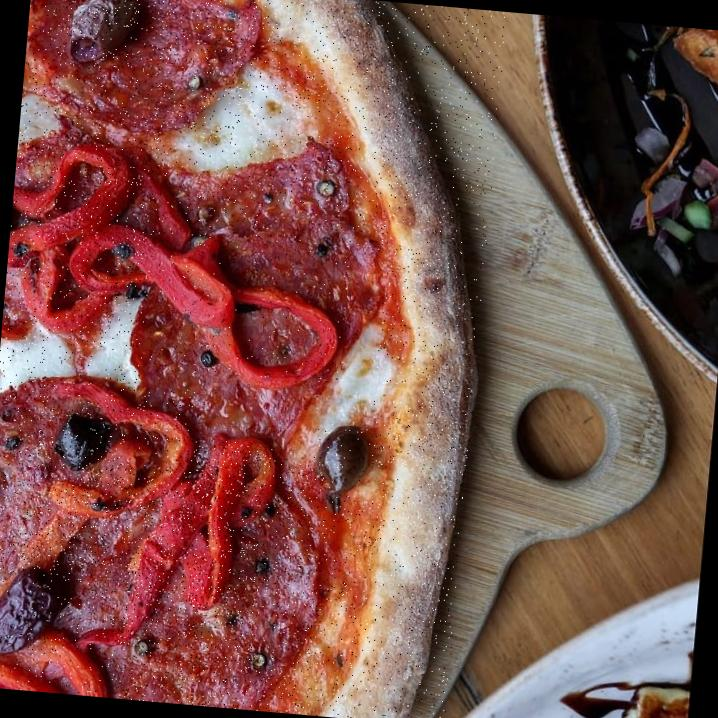Ham: (134, 233, 388, 466), (112, 446, 331, 715), (0, 372, 139, 640), (20, 0, 268, 136), (157, 130, 347, 250)
Olives: (309, 424, 378, 510), (0, 572, 66, 659), (69, 0, 137, 71), (54, 407, 122, 474)
Peppers: (1, 127, 160, 348), (118, 433, 272, 653), (146, 234, 350, 386), (7, 448, 134, 599), (53, 378, 196, 464), (0, 628, 116, 697)
Pizza: (0, 0, 507, 718)
